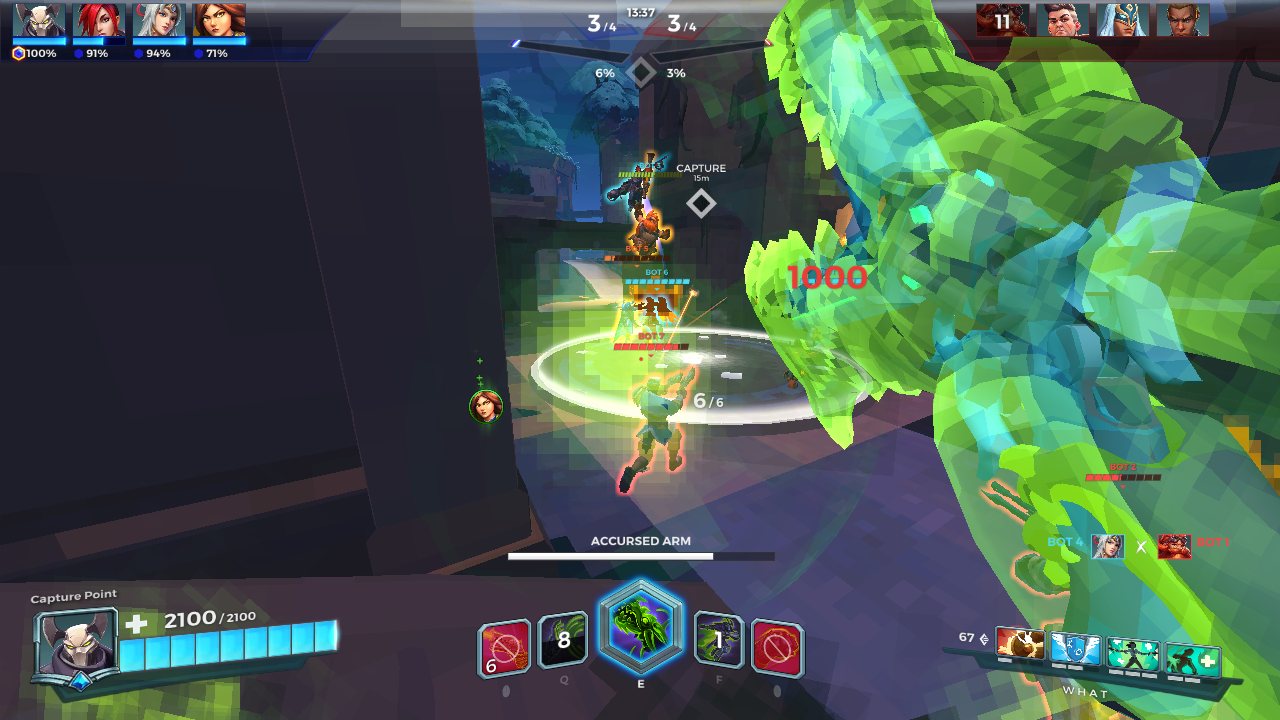model: (632, 366, 693, 495), (614, 295, 639, 349)
